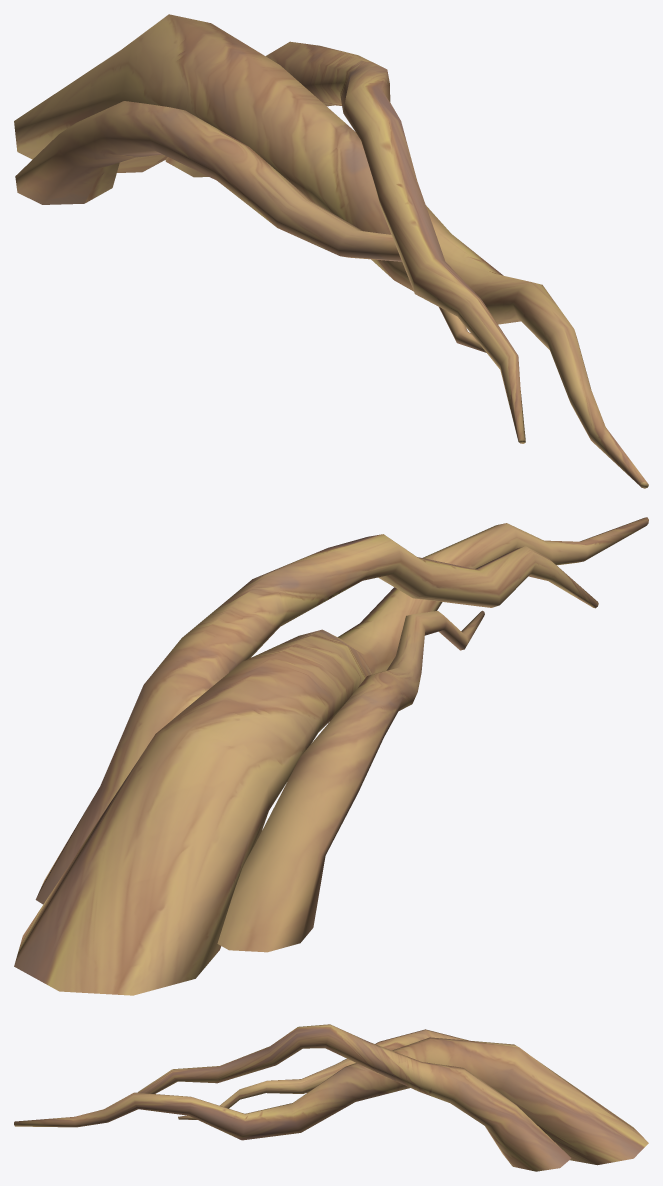
File: SM_ENV_treeroot_ancient_04.fbx
3 views of the same model, one above another, from view 1: azimuth 30°, elevation 25°; view 2: azimuth 150°, elevation 25°; view 3: azimuth 270°, elevation 25° (orthographic). The views are drawn at different scales.
Parts seen in each view (by area): view 1: SM_ENV_treeroot_ancient_04_LOD0; view 2: SM_ENV_treeroot_ancient_04_LOD0; view 3: SM_ENV_treeroot_ancient_04_LOD0.
Part boxes in pixels (<box>): SM_ENV_treeroot_ancient_04_LOD0: <box>14,14,648,488</box>; SM_ENV_treeroot_ancient_04_LOD0: <box>14,517,648,995</box>; SM_ENV_treeroot_ancient_04_LOD0: <box>14,1024,648,1171</box>.
Size of the model in its own units: 62.45 by 51.27 by 245.
